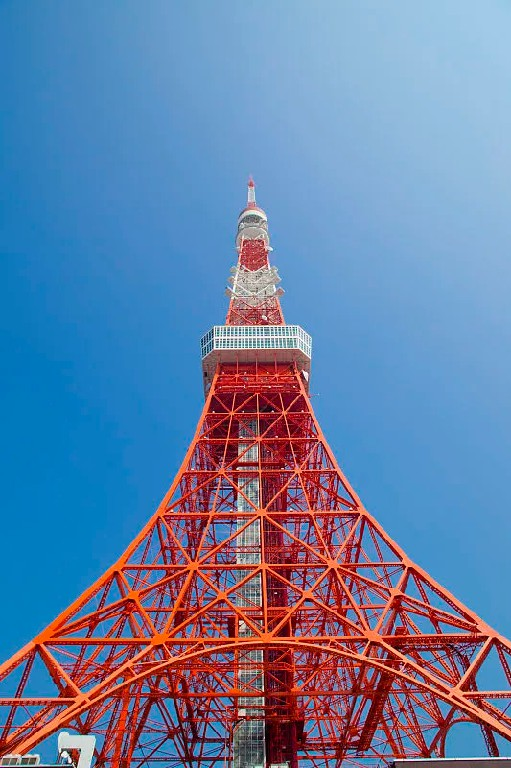Tokyo: (1, 172, 511, 768)
